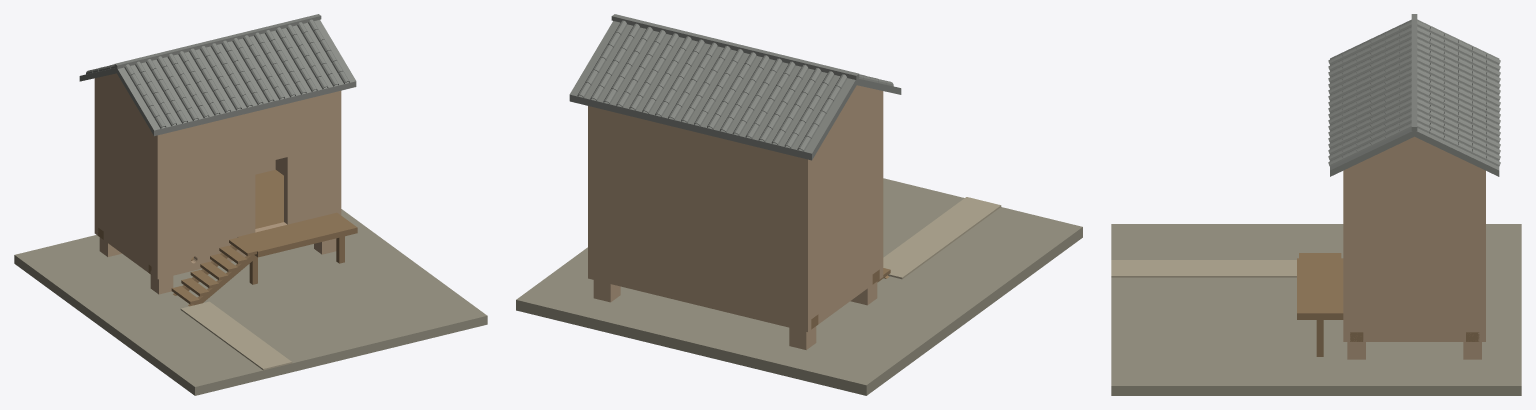
Rendered from granary-B.glb.
3 views of the same model, side by side, from view 1: azimuth 30°, elevation 25°; view 2: azimuth 150°, elevation 25°; view 3: azimuth 270°, elevation 25° (orthographic). The views are drawn at different scales.
Parts seen in each view (by area): view 1: C_site, A_front_right, A_roof, A_side.001, A_front_left, B_gallery, C_approach, A_front_header, B_floor, B_ridge, A_back, B_gable_closure.001 (+1 smaller); view 2: A_back, C_site, A_roof, A_side.001, C_approach, B_ridge, B_gable_closure.001, A_front_right, A_foot.003; view 3: C_site, A_side, A_roof, C_approach, B_gallery, B_gable_closure, A_front_left, A_back, B_ridge.
Part boxes in pixels (x1,y1,x2,y2): C_site: [14, 209, 487, 395]; A_front_right: [154, 111, 255, 279]; A_roof: [79, 20, 356, 136]; A_side.001: [98, 87, 153, 276]; A_front_left: [284, 90, 341, 224]; B_gallery: [237, 212, 357, 257]; C_approach: [180, 301, 292, 370]; A_front_header: [255, 104, 287, 164]; B_floor: [255, 169, 283, 228]; B_ridge: [114, 14, 321, 68]; A_back: [94, 84, 275, 235]; B_gable_closure.001: [94, 73, 144, 120]; A_back: [588, 106, 811, 331]; C_site: [516, 178, 1082, 395]; A_roof: [569, 21, 901, 160]; A_side.001: [812, 101, 878, 324]; C_approach: [883, 197, 1001, 279]; B_ridge: [611, 14, 859, 79]; B_gable_closure.001: [823, 85, 883, 141]; A_front_right: [879, 98, 883, 279]; A_foot.003: [789, 326, 816, 349]; C_site: [1111, 224, 1521, 395]; A_side: [1351, 172, 1477, 341]; A_roof: [1330, 19, 1499, 176]; C_approach: [1111, 260, 1296, 277]; B_gallery: [1297, 258, 1343, 319]; B_gable_closure: [1343, 136, 1485, 172]; A_front_left: [1343, 172, 1351, 341]; A_back: [1478, 172, 1485, 341]; B_ridge: [1411, 14, 1417, 130].
Bounding box in the file's own units: 8.6 × 6.19 × 9.2.
